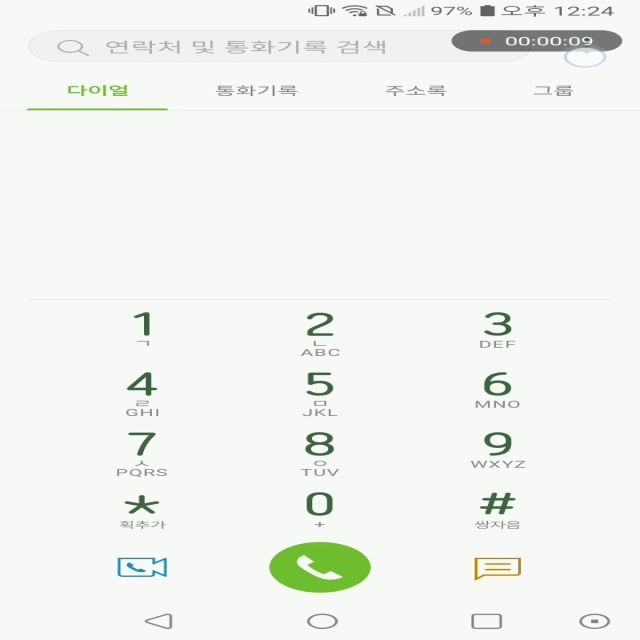Cursor: (564, 47, 608, 69)
